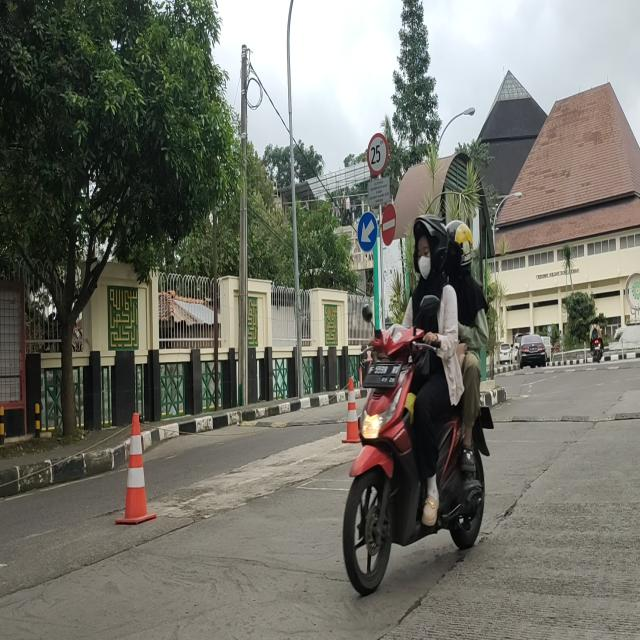helmet: (413, 218, 446, 285), (448, 220, 472, 283)
